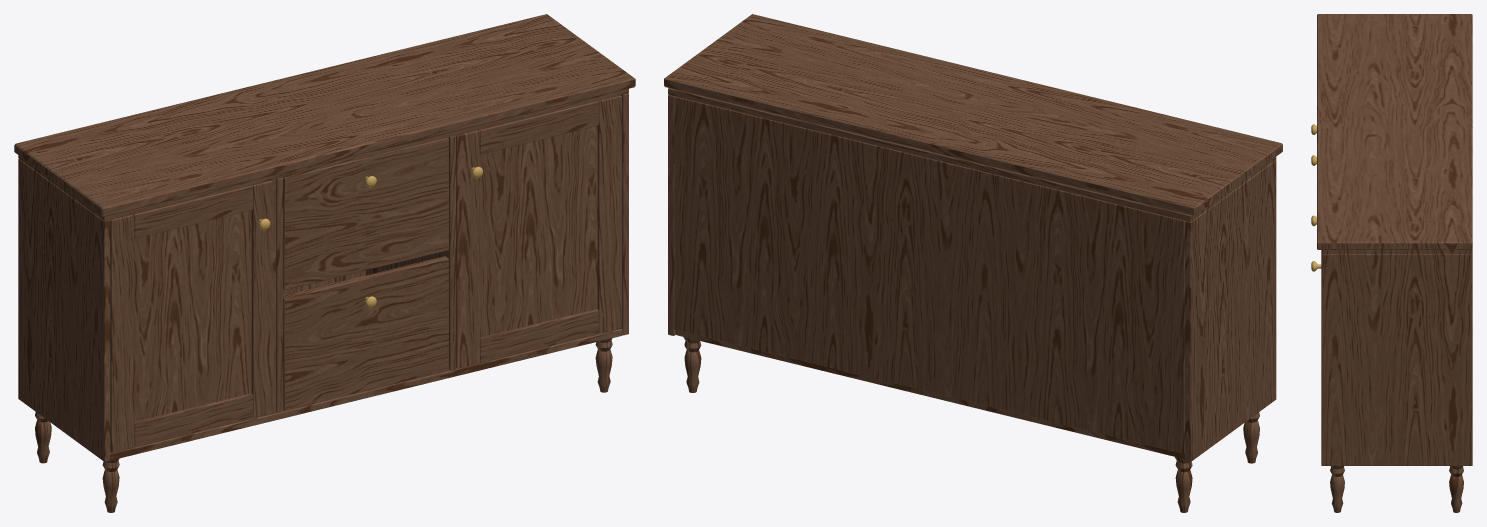
The model's file is aparador_nogal_150.glb.
The picture shows the model from 3 angles, left to right: view 1: azimuth 30°, elevation 25°; view 2: azimuth 150°, elevation 25°; view 3: azimuth 270°, elevation 25°; orthographic projection. The views are drawn at different scales.
Visible parts, largest first — view 1: aparador_nogal_150; view 2: aparador_nogal_150; view 3: aparador_nogal_150.
Boxes of the visible parts, x1,y1,x2,y2 form: aparador_nogal_150: (14,14,635,512); aparador_nogal_150: (664,14,1282,512); aparador_nogal_150: (1311,14,1472,512).
Size of the model in its own units: 1.5 by 0.8501 by 0.4479.
Materials: 2 (1 with a texture image).
